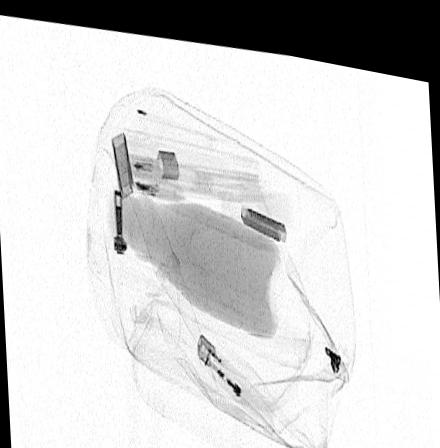Lighter: (196, 324, 273, 414)
